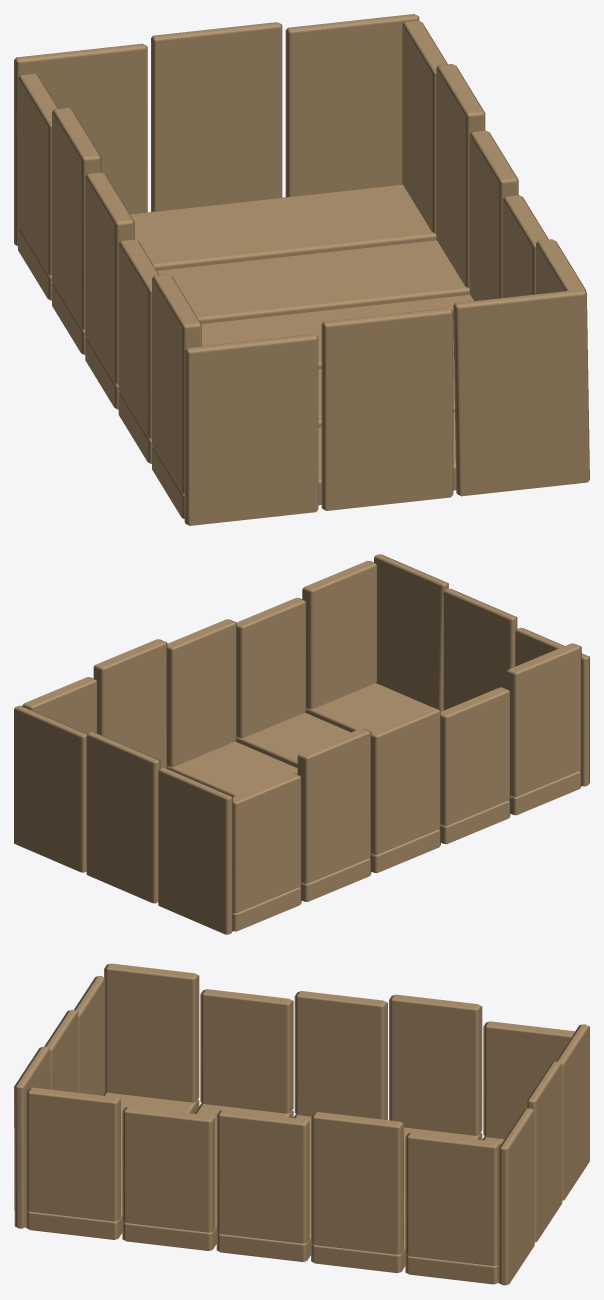
Rendered from EmptyCase.fbx.
3 views of the same model, one above another, from view 1: azimuth 30°, elevation 25°; view 2: azimuth 150°, elevation 25°; view 3: azimuth 270°, elevation 25° (orthographic). The views are drawn at different scales.
Visible parts, largest first — view 1: Plane.043; view 2: Plane.043; view 3: Plane.043.
Boxes of the visible parts, <box> form: Plane.043: <box>14,14,589,525</box>; Plane.043: <box>14,554,589,934</box>; Plane.043: <box>14,963,589,1285</box>.
Bounding box in the file's own units: 201 × 75.85 × 268.
